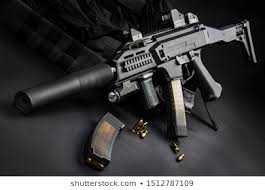Gun: (29, 21, 246, 177)
